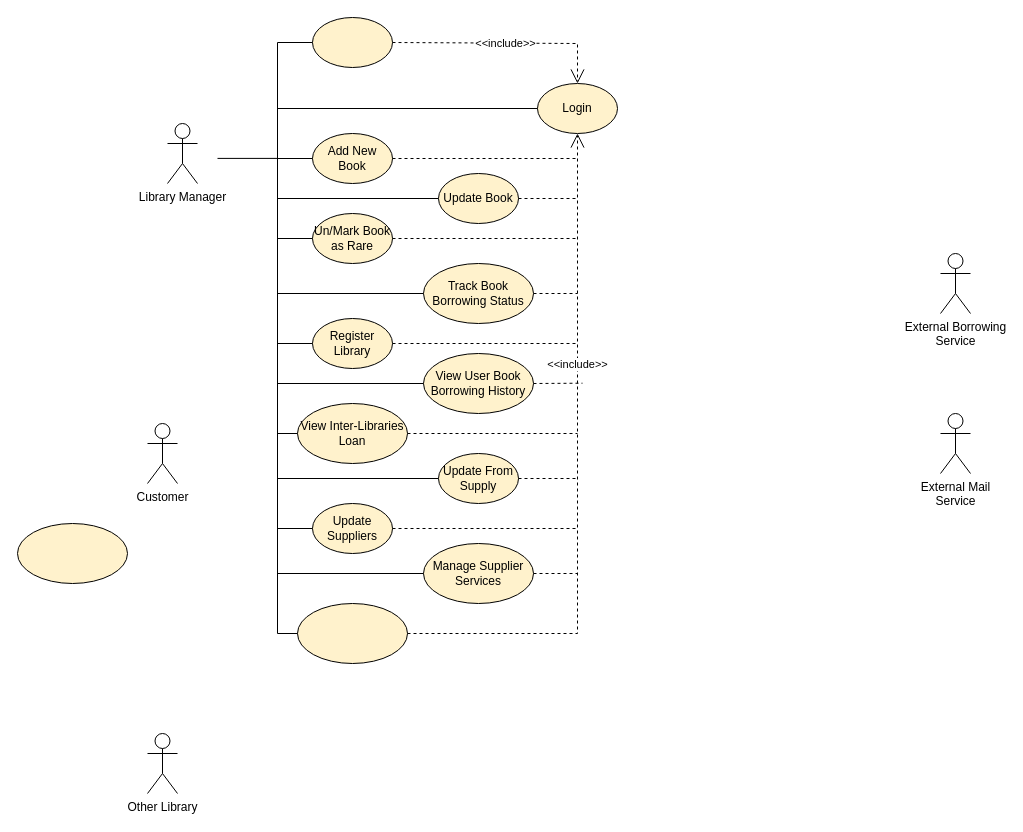
Some shapes in this 1023 by 832 pixel diagram are drawn without their labels. Here are the shapes that lost their labels. From the top down, the centre of each, then its label:
pixel 352 42: Logout
pixel 72 553: View My Book Borrowing History
pixel 352 633: Send Notification to Customers
